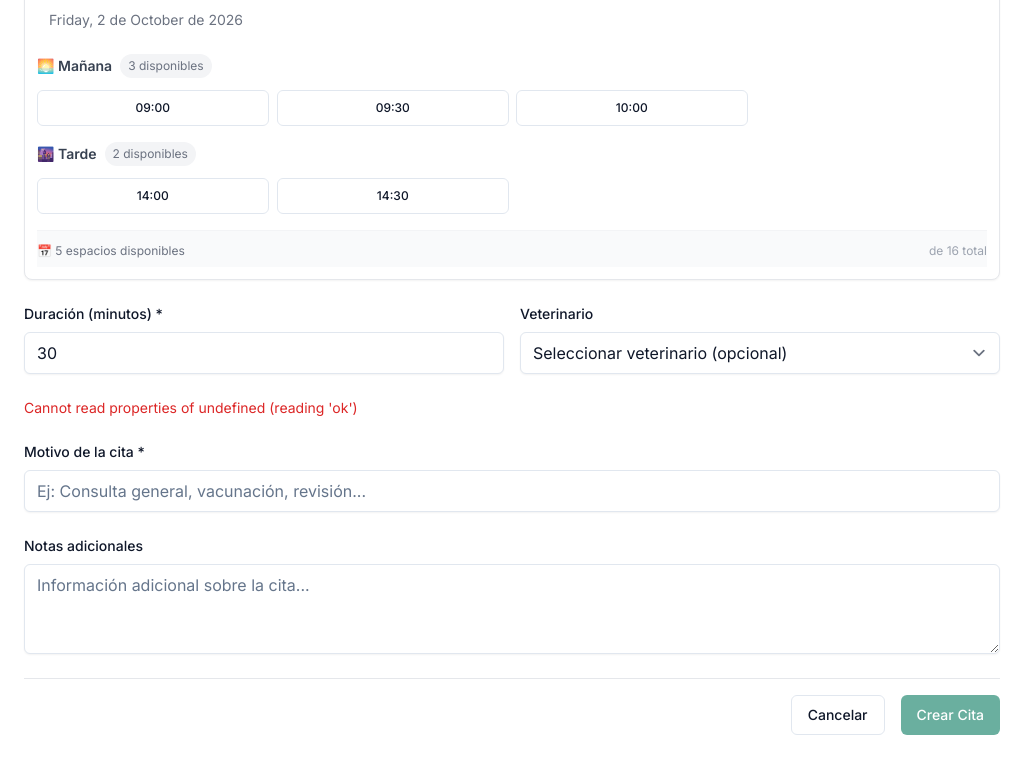
Test: AppointmentForm Component › Form Validation › should show validation error for missing customer
This screenshot has width=1024, height=759.
(page scrolled)
Try to submit without selecting customer - form has dateTime by default
Click the button with test id "submit-appointment-button" at (950, 715), box x1=900 y1=695 x2=1000 y2=735
(page scrolled)
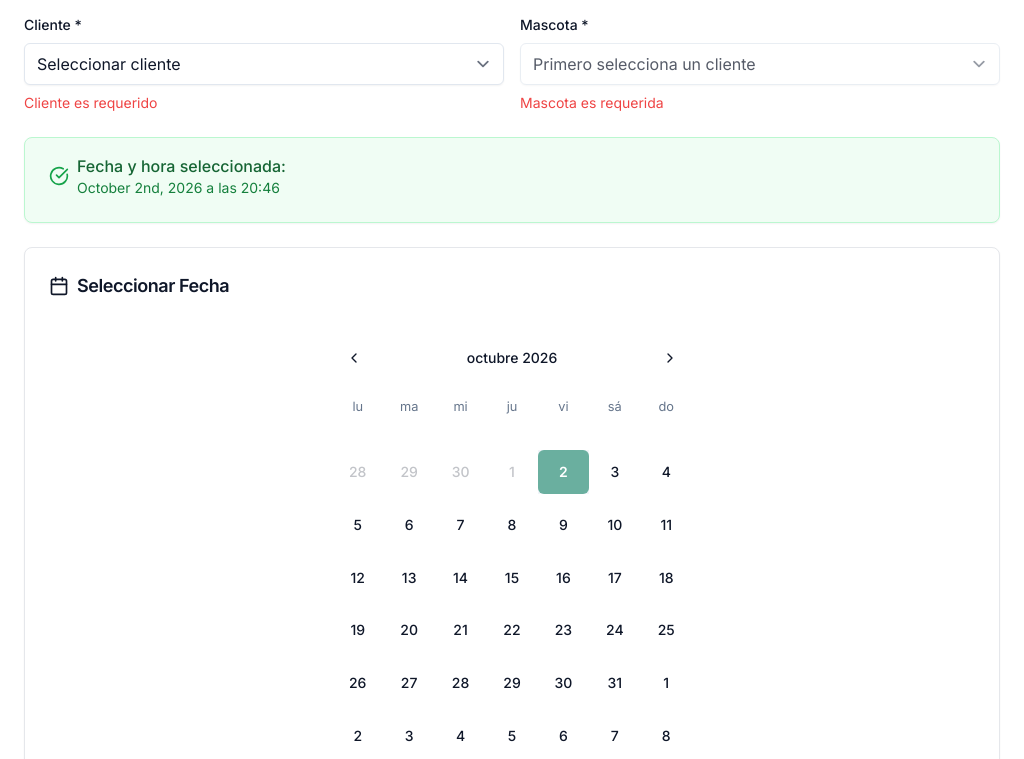
Check: the text "Cliente es requerido" is shown, box x1=24 y1=94 x2=158 y2=111
